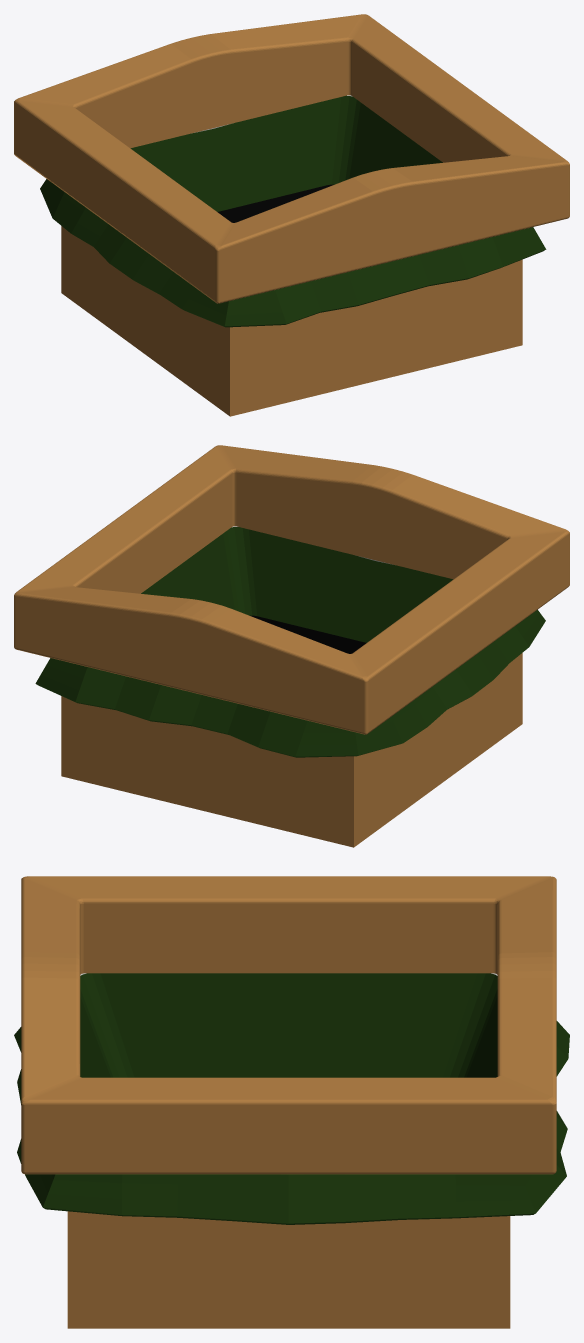
Rendered from basurero.obj.
3 renders of one model, top to bottom at view 1: azimuth 30°, elevation 25°; view 2: azimuth 150°, elevation 25°; view 3: azimuth 270°, elevation 25°, orthographic. The views are drawn at different scales.
Parts seen in each view (by area): view 1: Cube.003_Cube.002; view 2: Cube.003_Cube.002; view 3: Cube.003_Cube.002.
Boxes of the visible parts, bbox=[...] form: Cube.003_Cube.002: bbox=[14, 14, 569, 416]; Cube.003_Cube.002: bbox=[14, 445, 569, 847]; Cube.003_Cube.002: bbox=[14, 876, 569, 1328].
Bounding box in the file's own units: 2.07 × 1.12 × 2.08.
